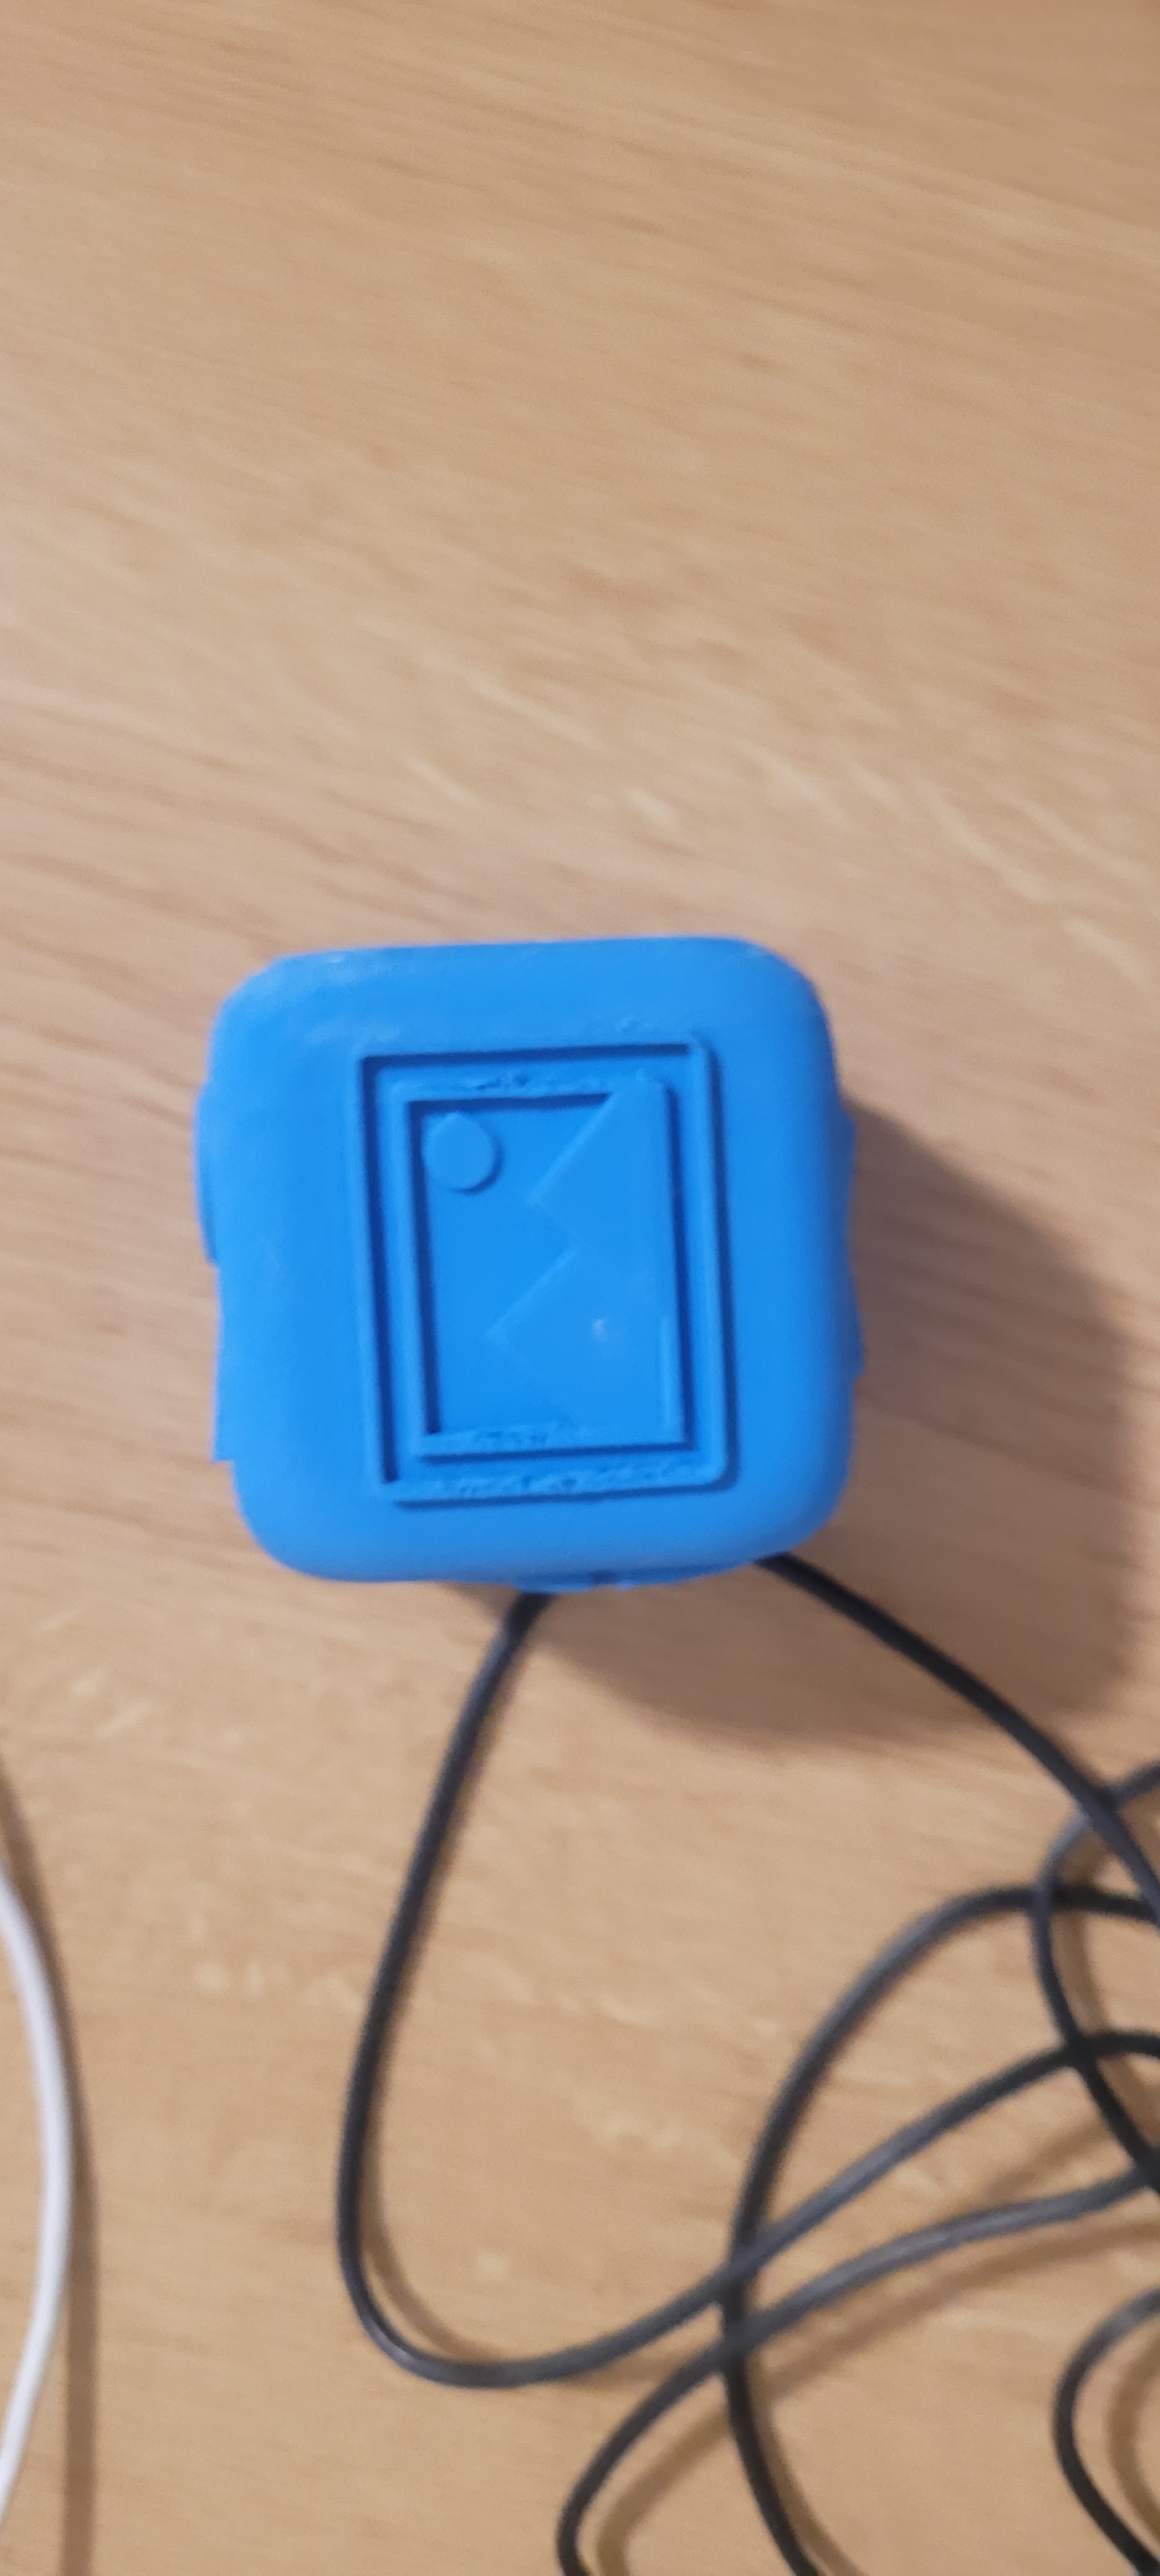Story: (301, 977, 803, 1556)
